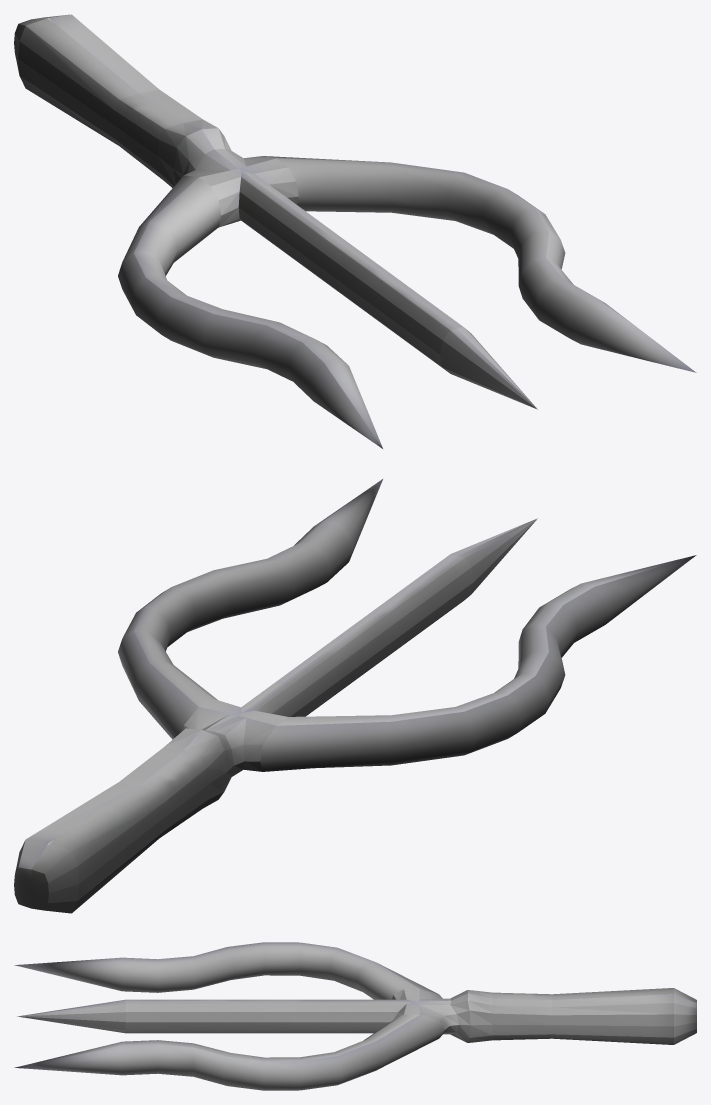
Rendered from Sai.FBX.
The picture shows the model from 3 angles, top to bottom: view 1: azimuth 30°, elevation 25°; view 2: azimuth 150°, elevation 25°; view 3: azimuth 270°, elevation 25°; orthographic projection. The views are drawn at different scales.
Visible parts, largest first — view 1: Sai; view 2: Sai; view 3: Sai.
Boxes of the visible parts, x1,y1,x2,y2 form: Sai: [14, 14, 696, 448]; Sai: [14, 479, 696, 913]; Sai: [14, 942, 696, 1090].
Size of the model in its own units: 5.6 by 12.62 by 0.9416.
1 material, 1 textured.
